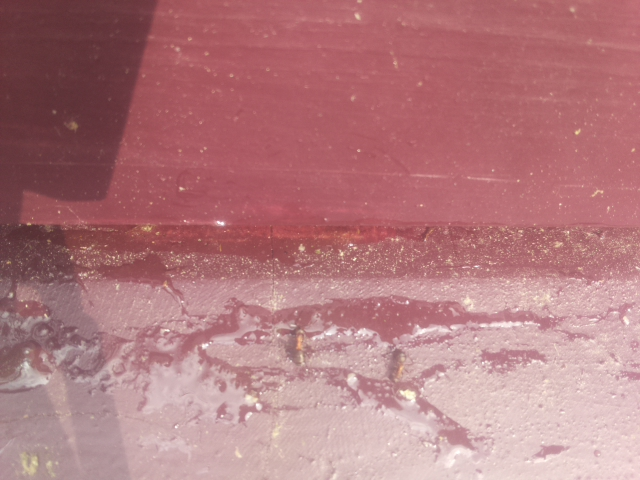ant: (291, 322, 310, 370), (417, 219, 437, 255), (389, 347, 407, 384)
not_ant: (343, 369, 363, 405)
